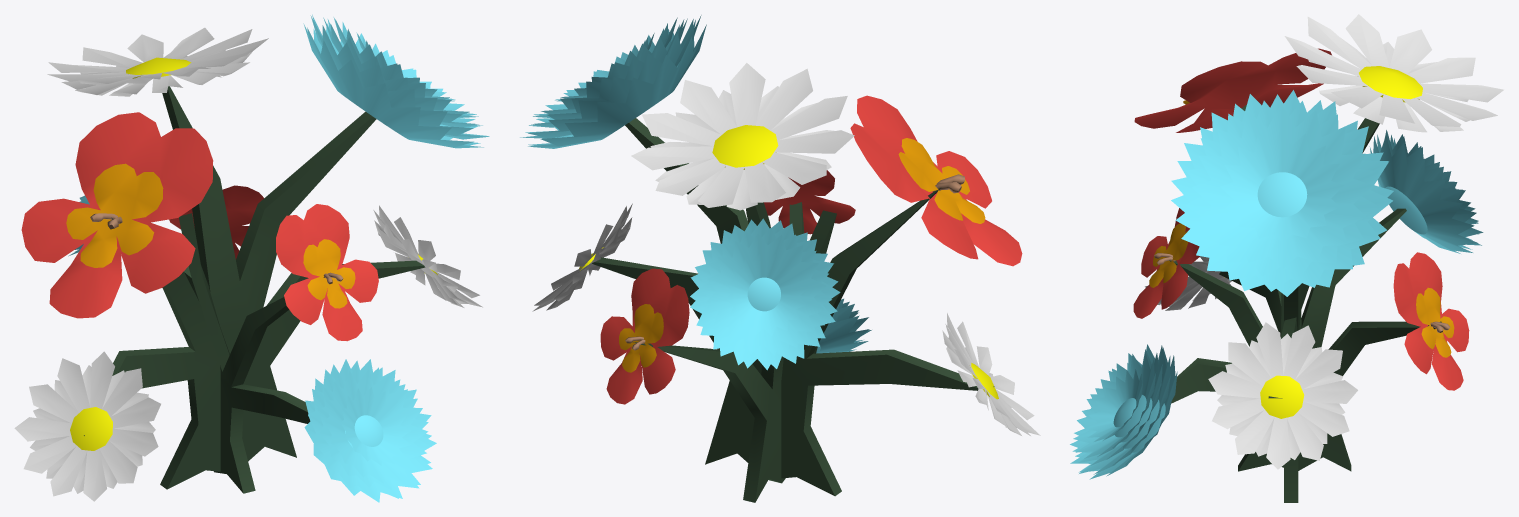
The model's file is gs_bouquet.fbx.
3 views of the same model, side by side, from view 1: azimuth 30°, elevation 25°; view 2: azimuth 150°, elevation 25°; view 3: azimuth 270°, elevation 25° (orthographic).
Parts seen in each view (by area): view 1: bouquet_nasturium, bouquet_base, bouquet_daisy, bouquet_cornflower; view 2: bouquet_cornflower, bouquet_daisy, bouquet_base, bouquet_nasturium; view 3: bouquet_cornflower, bouquet_daisy, bouquet_nasturium, bouquet_base.
Boxes of the visible parts, x1=… form: bouquet_nasturium: x1=21, y1=112, x2=378, y2=341; bouquet_base: x1=84, y1=86, x2=425, y2=493; bouquet_daisy: x1=14, y1=27, x2=482, y2=501; bouquet_cornflower: x1=68, y1=14, x2=489, y2=502; bouquet_cornflower: x1=520, y1=15, x2=871, y2=370; bouquet_daisy: x1=532, y1=63, x2=1040, y2=435; bouquet_base: x1=592, y1=118, x2=994, y2=502; bouquet_nasturium: x1=600, y1=95, x2=1022, y2=404; bouquet_cornflower: x1=1070, y1=90, x2=1483, y2=479; bouquet_daisy: x1=1145, y1=14, x2=1503, y2=469; bouquet_nasturium: x1=1133, y1=48, x2=1469, y2=390; bouquet_base: x1=1169, y1=104, x2=1441, y2=502.
Bounding box in the file's own units: 82.67 × 65.21 × 70.9.
